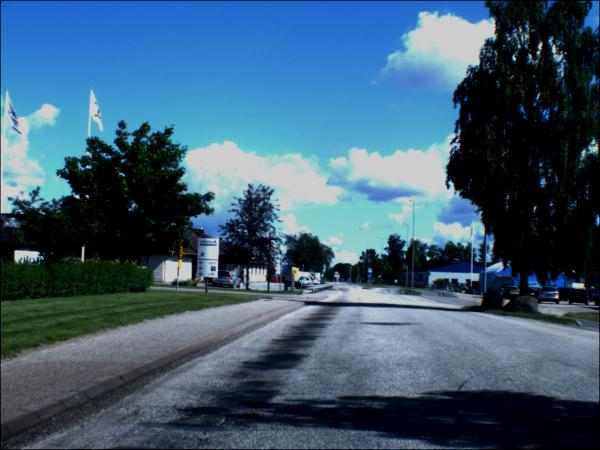30_SIGN: (179, 247, 183, 261)
PASS_RIGHT_SIDE: (367, 275, 373, 279)
PEDESTRIAN_CROSSING: (367, 269, 373, 275)
